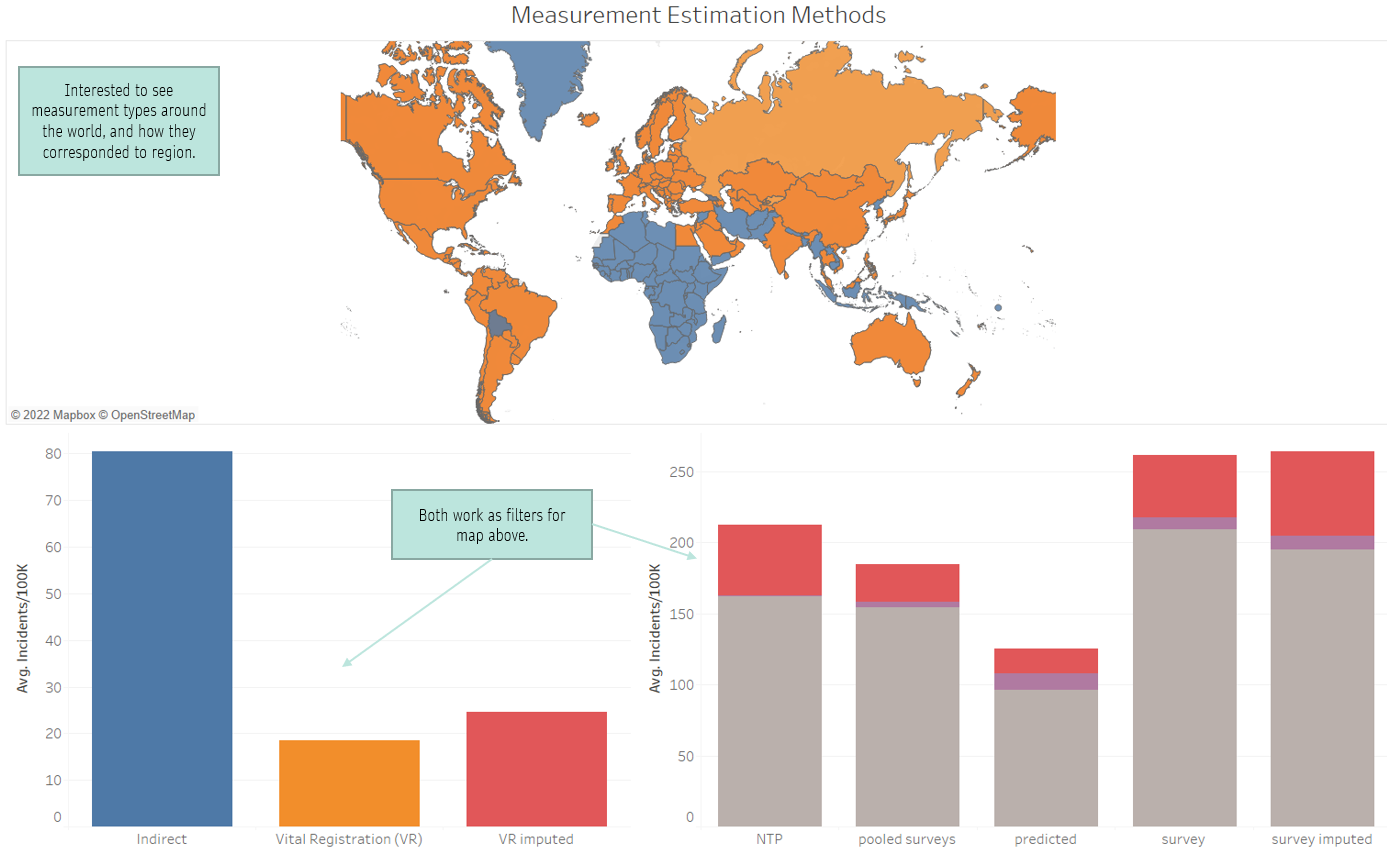

What the dashboard file says about the page in this screenshot:
{"tool":"tableau","page":{"name":"Estimation Methods","canvas":[1534,971],"ordinal":0},"visuals":[{"type":"worksheet","title":"Mortality Estimate","mark":"Multipolygon","box":[8,8,1518,477.5]},{"type":"worksheet","title":"Mortality Estimates","mark":"Automatic","rows":["Value"],"cols":["Method to derive mortality estimates"],"box":[8,485.5,689,477.5]},{"type":"worksheet","title":"Prevalence Estimates","mark":"Automatic","rows":["Value"],"cols":["Method to derive prevalence estimates"],"box":[697,485.5,829,477.5]}]}

Visuals, with their boxes on the page's 1534x971 design canvas (x1, y1, x2, y2). These are canvas units, not pixel positions in the 1387x852 screenshot, which may show the page scaled, cropped or inside an application window:
"Mortality Estimate" worksheet (Multipolygon marks): [left=8, top=8, right=1526, bottom=486]
"Mortality Estimates" worksheet: [left=8, top=486, right=697, bottom=963]
"Prevalence Estimates" worksheet: [left=697, top=486, right=1526, bottom=963]
